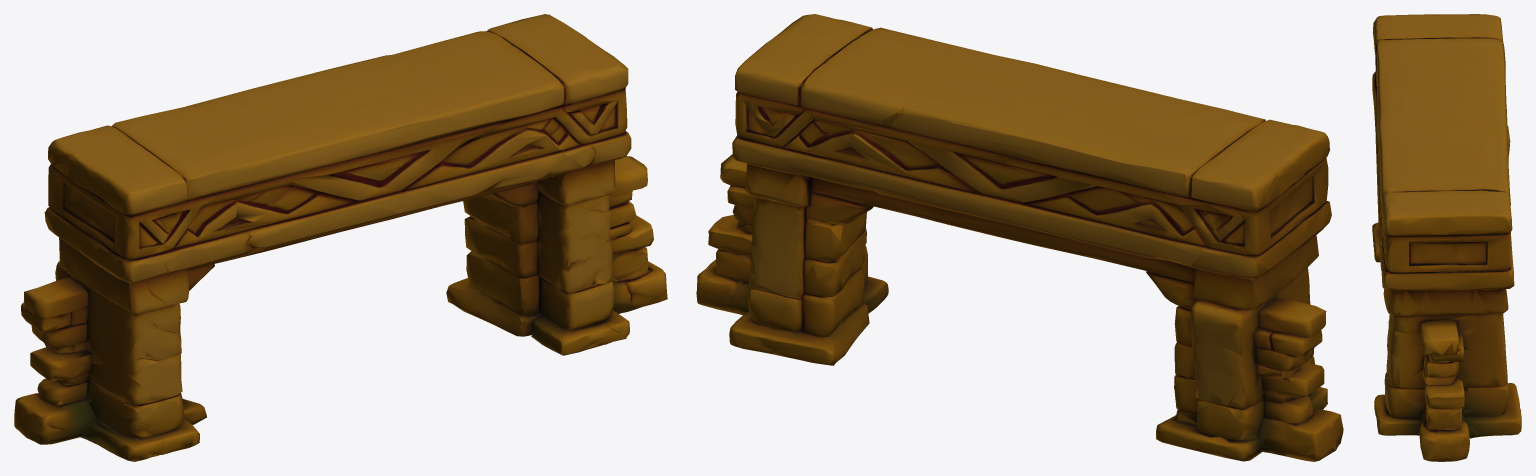
File: low_arch.glb
3 views of the same model, side by side, from view 1: azimuth 30°, elevation 25°; view 2: azimuth 150°, elevation 25°; view 3: azimuth 270°, elevation 25° (orthographic). The views are drawn at different scales.
Visible parts, largest first — view 1: tripo_mesh_7a08f741-96de-4596-be58-65d61927fd26; view 2: tripo_mesh_7a08f741-96de-4596-be58-65d61927fd26; view 3: tripo_mesh_7a08f741-96de-4596-be58-65d61927fd26.
Part boxes in pixels (x1=…): tripo_mesh_7a08f741-96de-4596-be58-65d61927fd26: x1=14, y1=14, x2=667, y2=461; tripo_mesh_7a08f741-96de-4596-be58-65d61927fd26: x1=696, y1=14, x2=1343, y2=461; tripo_mesh_7a08f741-96de-4596-be58-65d61927fd26: x1=1372, y1=14, x2=1521, y2=461.
Bounding box in the file's own units: 5.33 × 2.2 × 1.35.
Materials: 1 (1 with a texture image).
